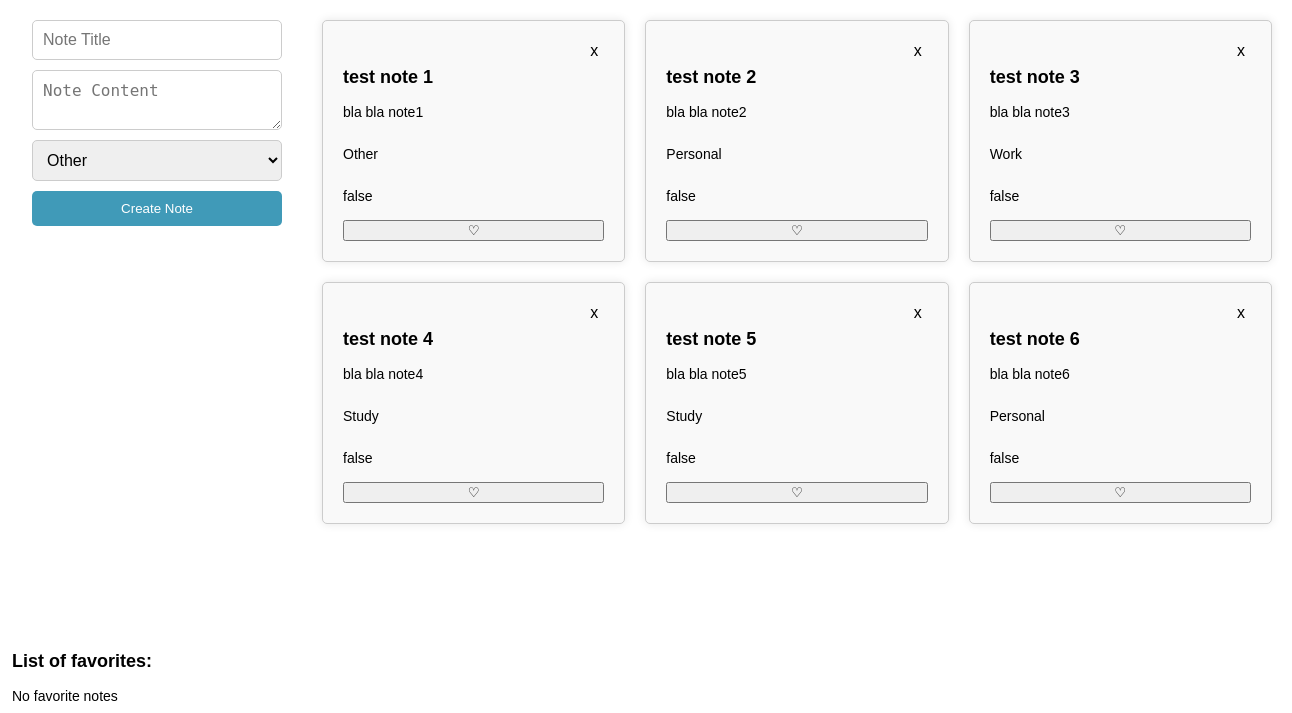
Sticky Notes CRUD Operations › deletes a sticky note
In the field with placeholder "Note Title": (157, 40) [32,20,282,60], type "Note to be deleted"
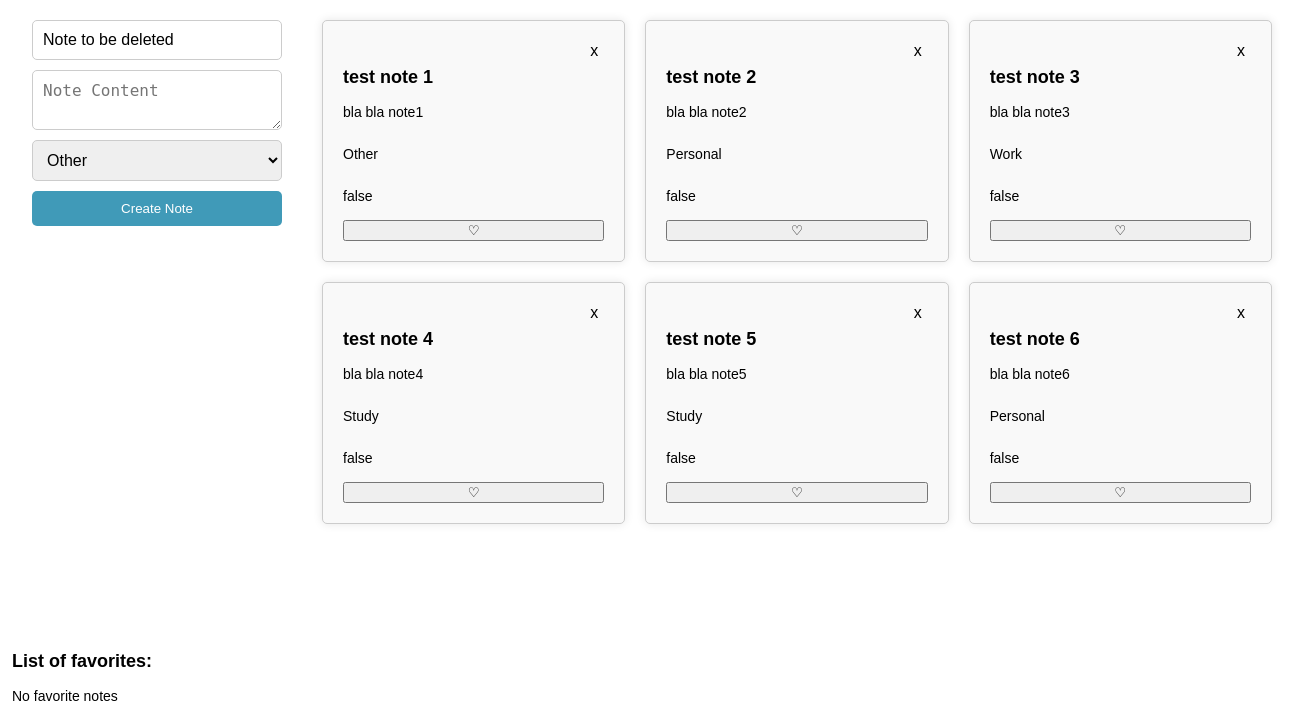
In the text box with placeholder "Note Content": (157, 100) [32,70,282,130], type "This will be deleted"
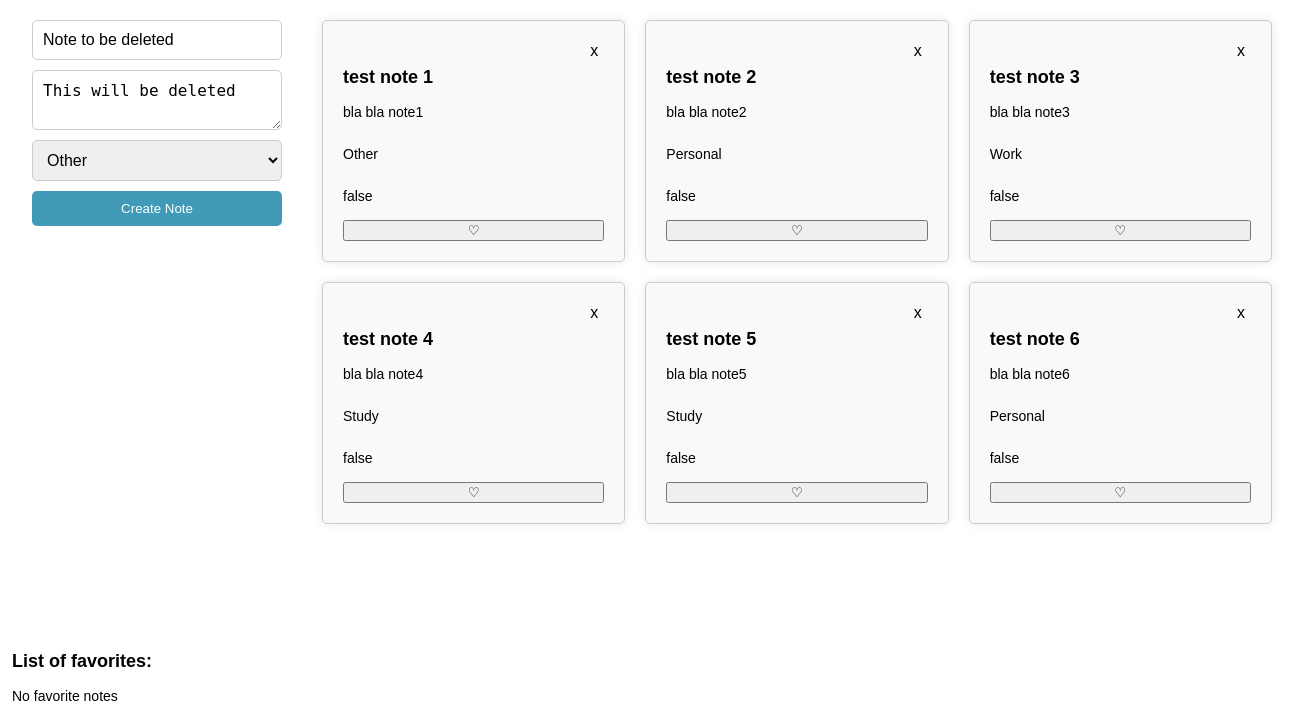
Click the button "Create Note": click(157, 208) [32,191,282,226]
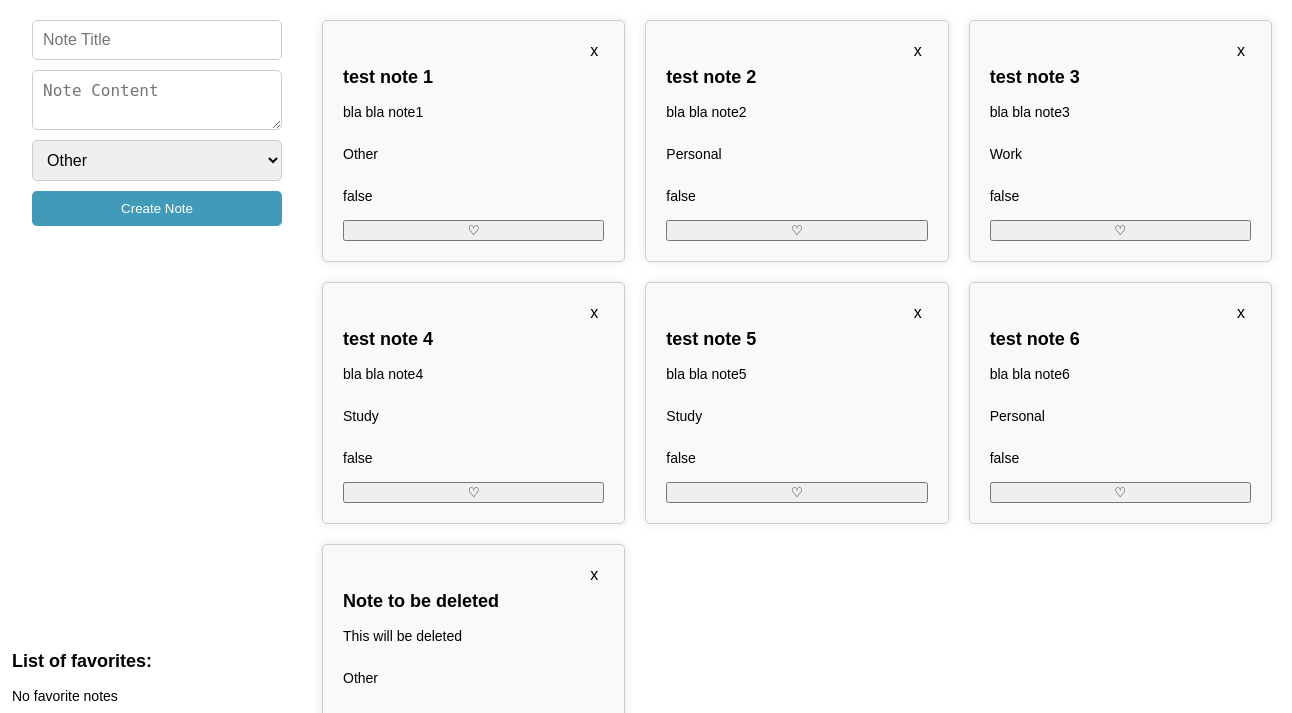
Delete the note by clicking the delete button
Click the button with test id "delete-button-6": click(594, 575) [584,565,604,585]
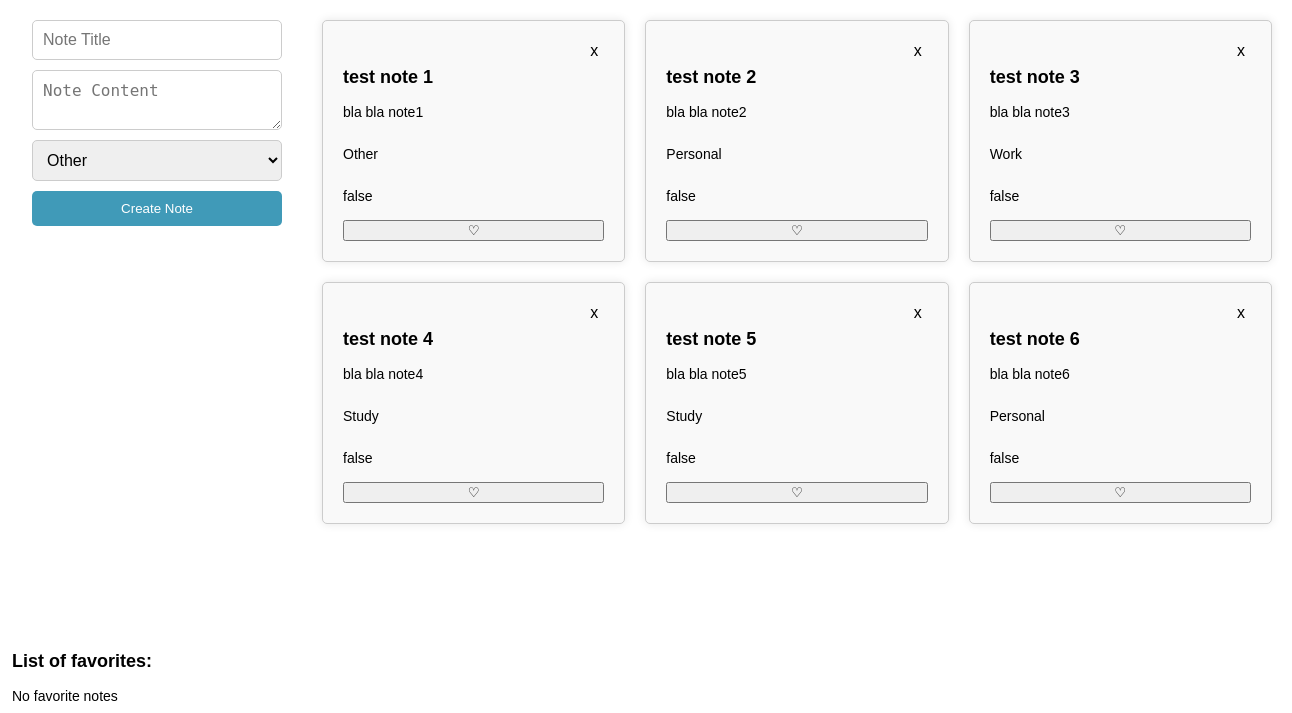
Check: the heading "Note to be deleted" is gone
